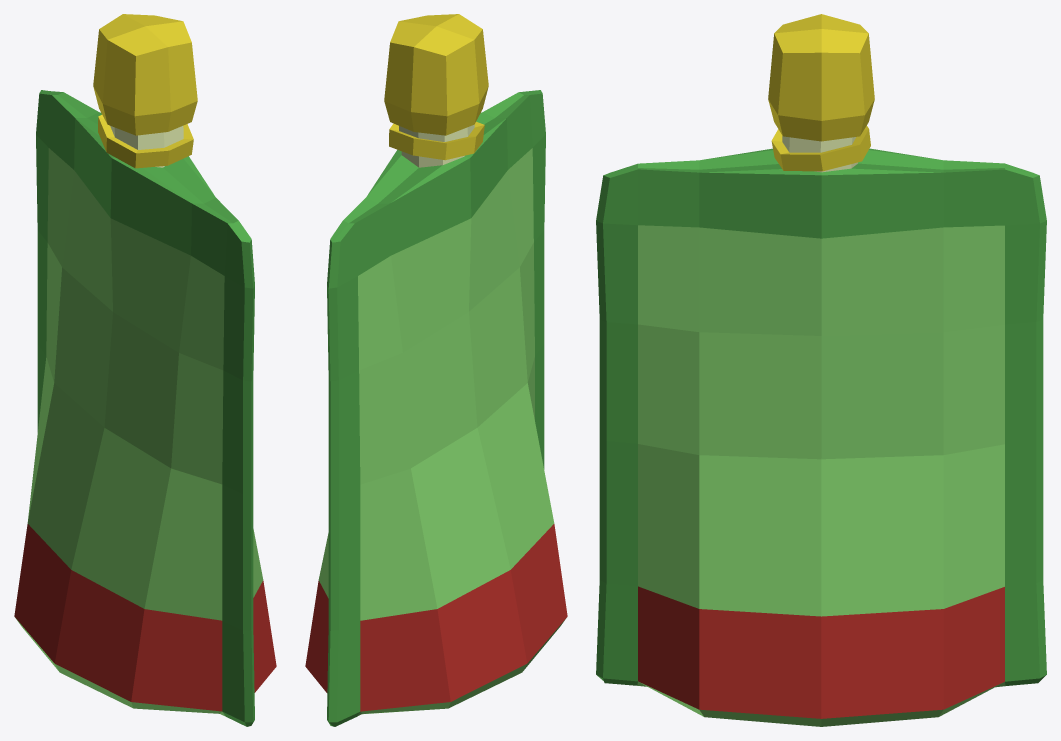
Rendered from compote_pomme.fbx.
3 renders of one model, left to right at view 1: azimuth 30°, elevation 25°; view 2: azimuth 150°, elevation 25°; view 3: azimuth 270°, elevation 25°, orthographic. The views are drawn at different scales.
Visible parts, largest first — view 1: compote; view 2: compote; view 3: compote.
Boxes of the visible parts, <box> form: compote: <box>14,14,276,726</box>; compote: <box>305,14,567,726</box>; compote: <box>596,14,1046,726</box>.
Bounding box in the file's own units: 89.73 × 297 × 184.
